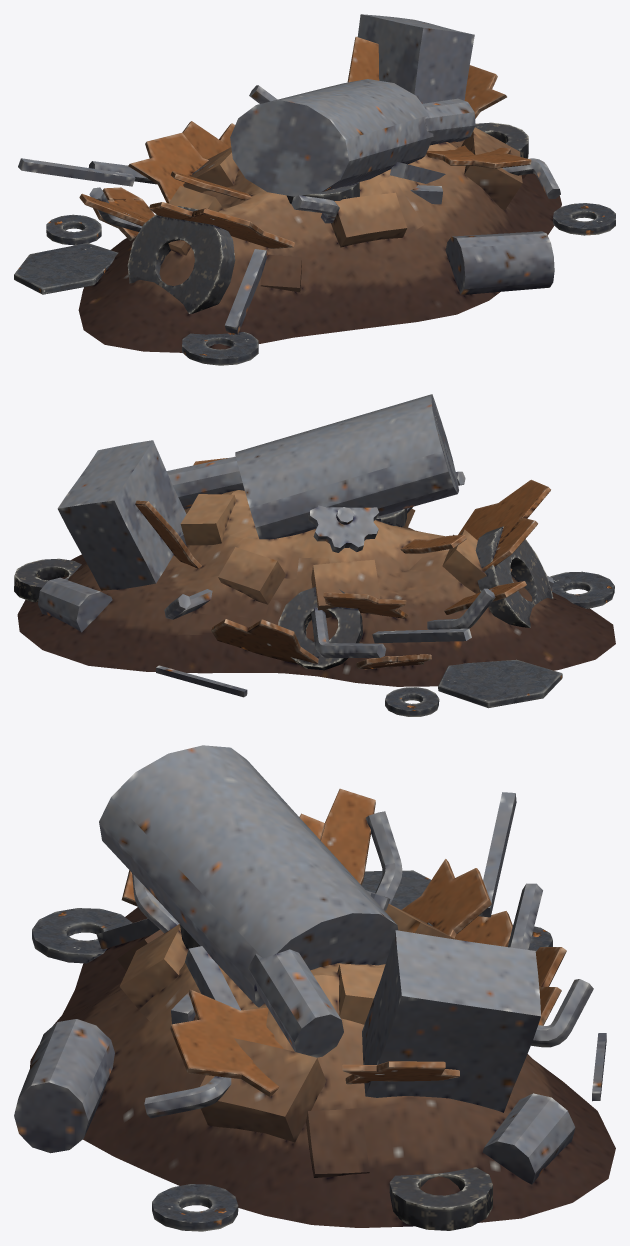
3 renders of one model, top to bottom at view 1: azimuth 30°, elevation 25°; view 2: azimuth 150°, elevation 25°; view 3: azimuth 270°, elevation 25°, orthographic. The views are drawn at different scales.
Parts seen in each view (by area): view 1: Heap, Bits, Plates, Spill, Tyre; view 2: Heap, Bits, Plates, Tyre, Spill; view 3: Bits, Heap, Plates, Spill, Tyre.
Part boxes in pixels (x1,y1,x2,y2): Heap: (78, 127, 561, 352); Bits: (18, 14, 560, 334); Plates: (79, 36, 531, 248); Spill: (14, 203, 615, 365); Tyre: (127, 122, 528, 313); Heap: (17, 490, 615, 686); Bits: (38, 394, 553, 697); Plates: (135, 458, 550, 669); Tyre: (14, 508, 553, 670); Spill: (385, 571, 614, 716); Bits: (14, 745, 606, 1184); Heap: (30, 904, 615, 1227); Plates: (121, 788, 566, 1096); Spill: (32, 870, 552, 1231); Tyre: (179, 922, 492, 1230).
Size of the model in its own units: 24.53 by 9.17 by 17.89.
5 materials, 5 textured.
